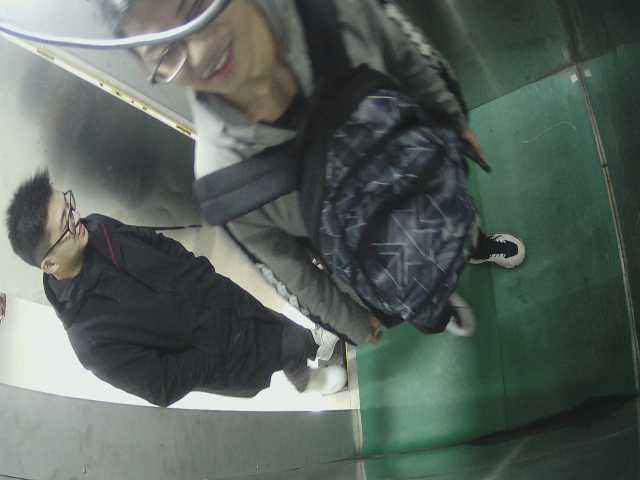bag: (306, 78, 483, 338)
person: (3, 163, 305, 391), (99, 1, 469, 155)
